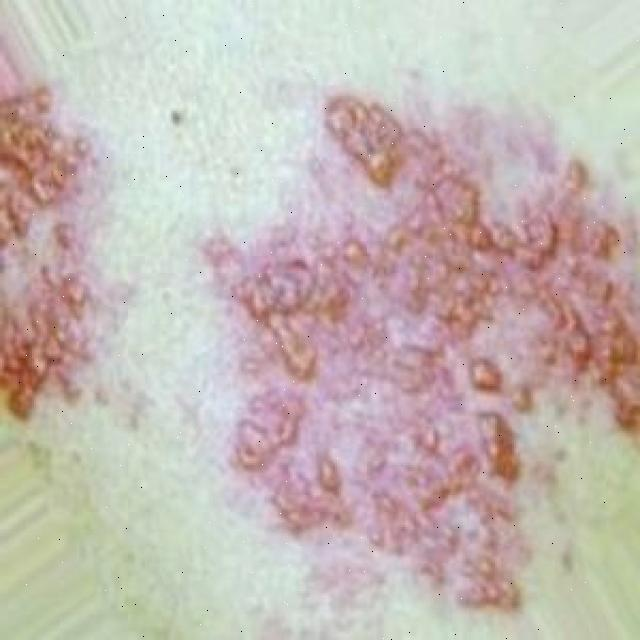Shingles: (222, 90, 640, 612), (0, 84, 92, 427)
